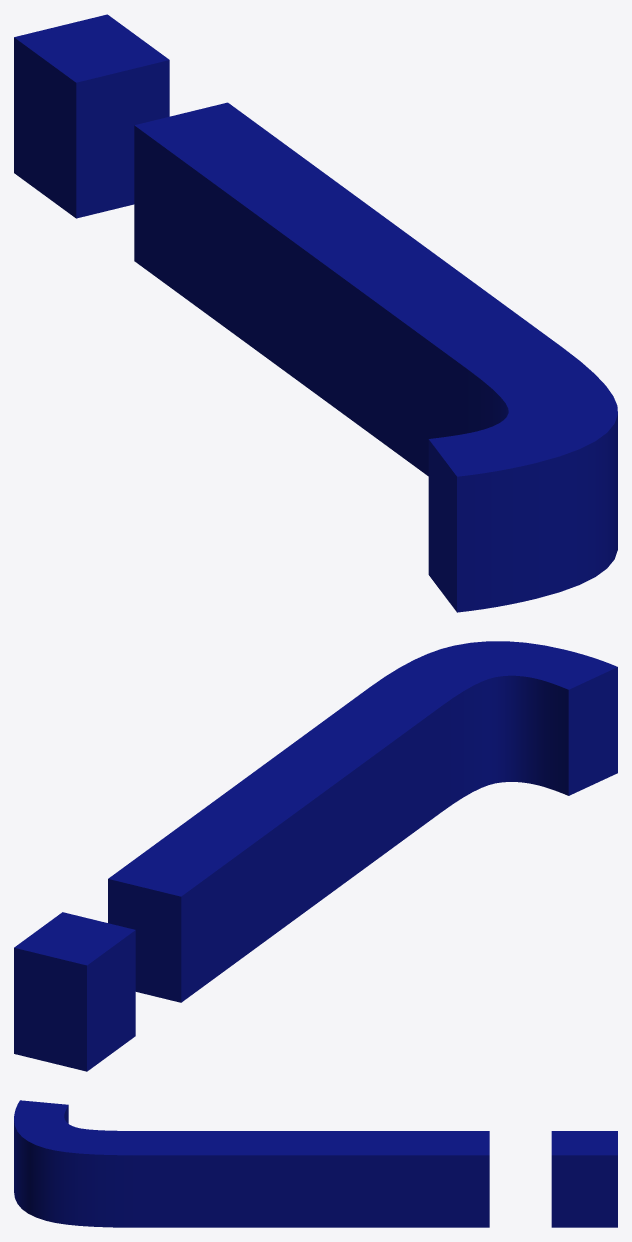
The picture shows the model from 3 angles, top to bottom: view 1: azimuth 30°, elevation 25°; view 2: azimuth 150°, elevation 25°; view 3: azimuth 270°, elevation 25°; orthographic projection. The views are drawn at different scales.
Parts seen in each view (by area): view 1: TextPlus036; view 2: TextPlus036; view 3: TextPlus036.
Boxes of the visible parts, left/top/right/bottom form: TextPlus036: left=14, top=14, right=617, bottom=612; TextPlus036: left=14, top=641, right=617, bottom=1071; TextPlus036: left=14, top=1100, right=617, bottom=1227.
Size of the model in its own units: 7.15 by 4.38 by 33.16.
